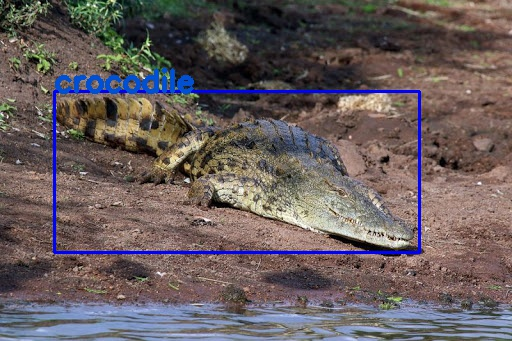crocodile: (53, 91, 419, 252)
